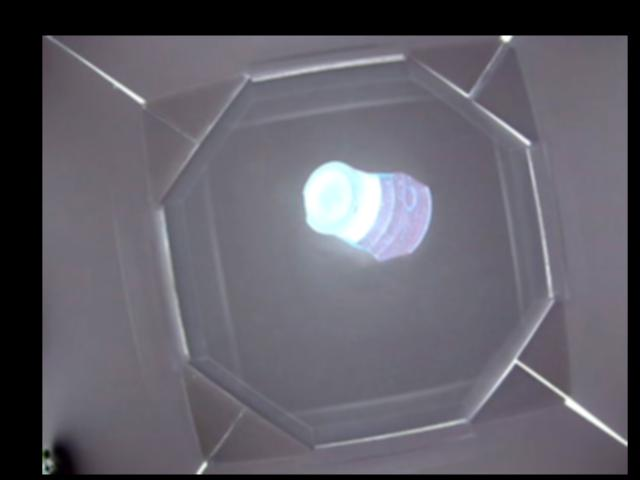China: (302, 159, 433, 262)
